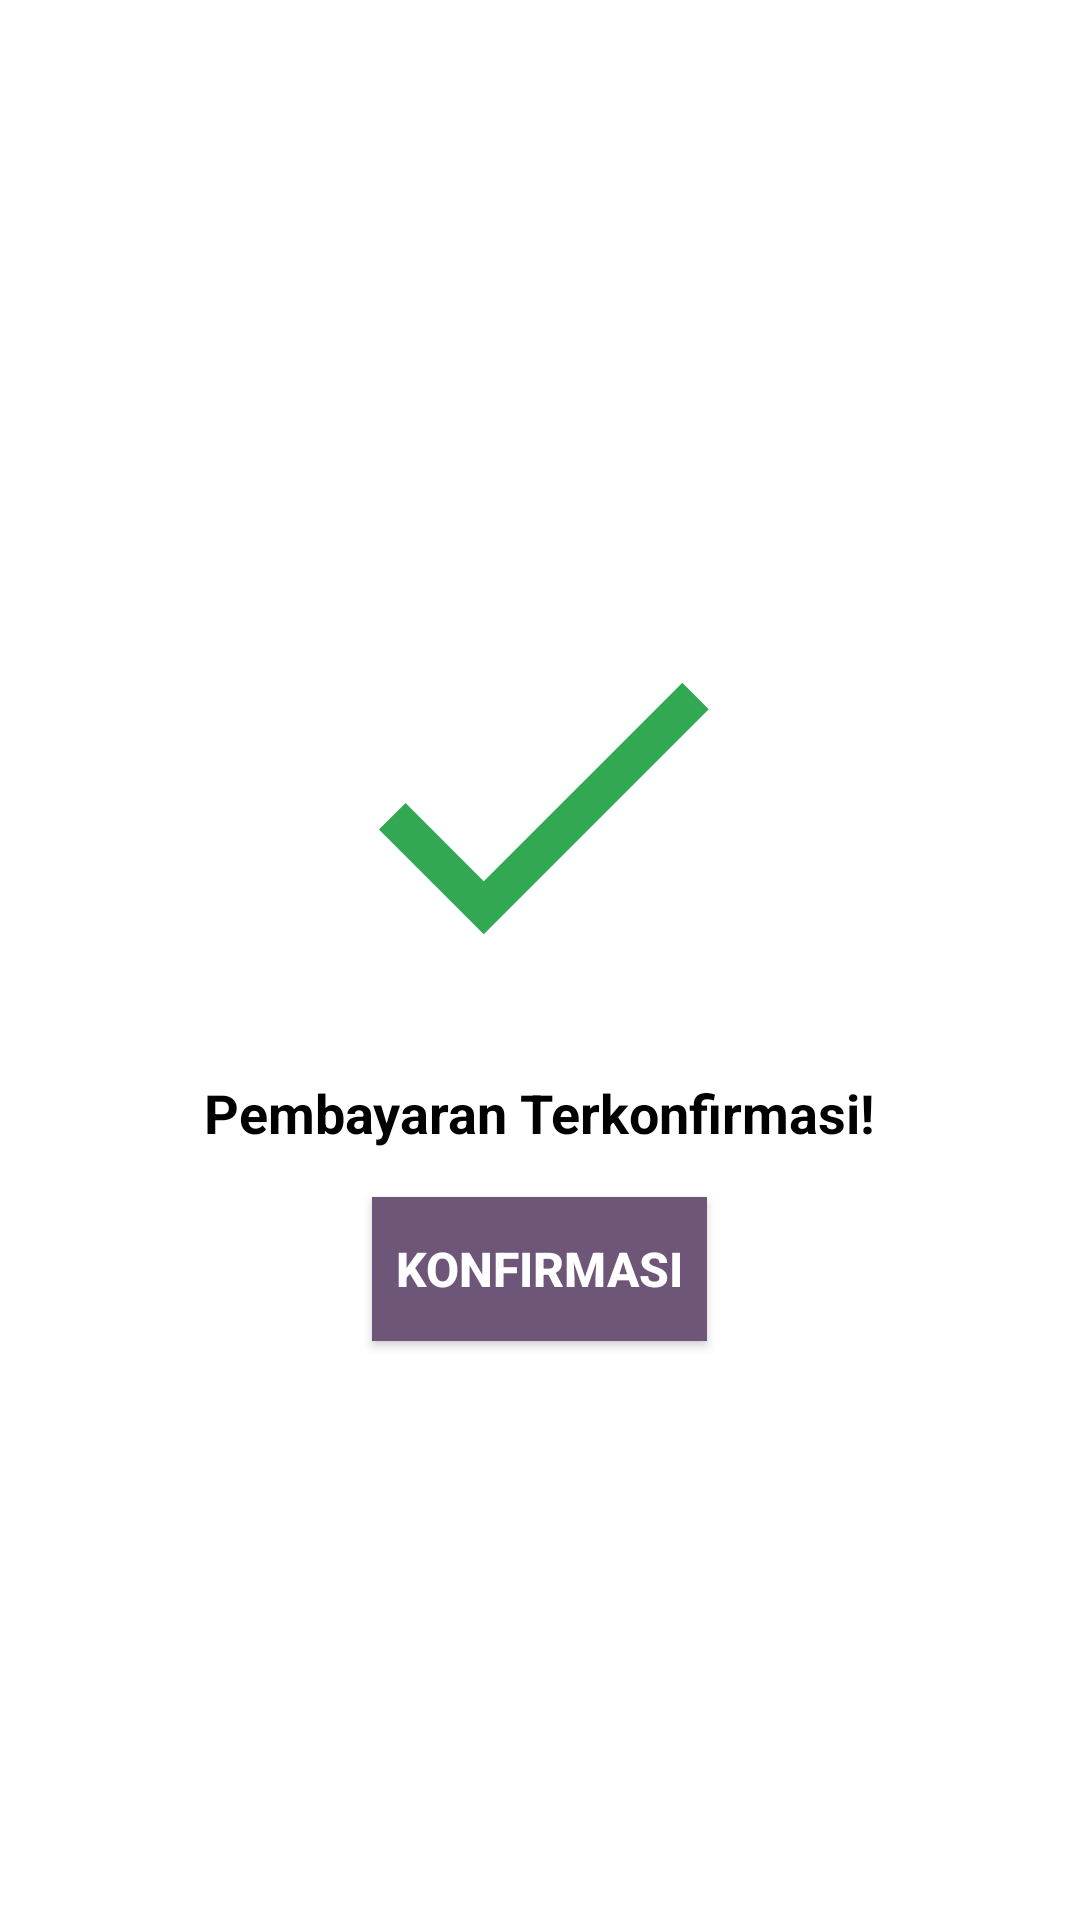

Locate icon controls on the screen. Image size 1080 × 1920, boxes as bbox=(x1, y1, x2, y2).
Confirmation Icon: bbox=(379, 683, 709, 934)
